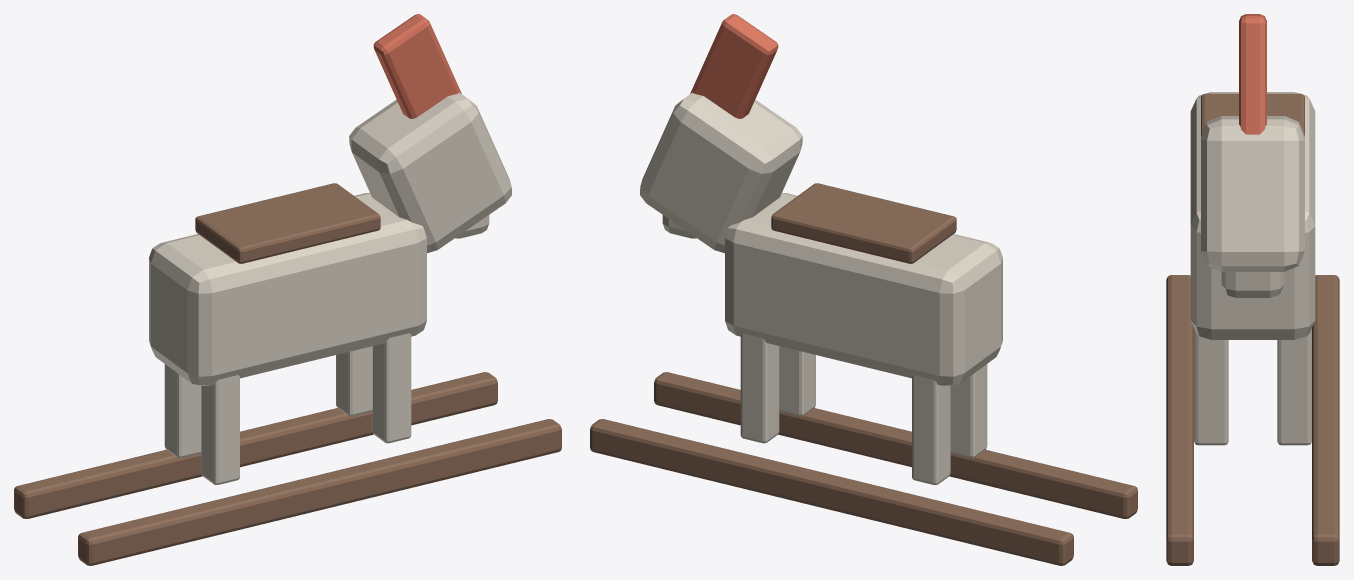
The model's file is hh_rocking_horse.glb.
3 views of the same model, side by side, from view 1: azimuth 30°, elevation 25°; view 2: azimuth 150°, elevation 25°; view 3: azimuth 270°, elevation 25° (orthographic). The views are drawn at different scales.
Visible parts, largest first — view 1: body, rocker, head, rocker.001, saddle, mane, leg.002, leg, leg.001, leg.003; view 2: body, rocker.001, head, rocker, saddle, mane, leg.003, leg.001, leg, leg.002; view 3: head, body, rocker, rocker.001, leg.002, leg.003, mane, saddle, neck.
Part boxes in pixels (x1=…): body: x1=149, y1=192, x2=426, y2=385; rocker: x1=78, y1=419, x2=561, y2=565; head: x1=349, y1=92, x2=511, y2=253; rocker.001: x1=14, y1=372, x2=497, y2=518; saddle: x1=195, y1=183, x2=380, y2=263; mane: x1=373, y1=14, x2=461, y2=118; leg.002: x1=372, y1=333, x2=411, y2=443; leg: x1=201, y1=375, x2=239, y2=484; leg.001: x1=164, y1=364, x2=201, y2=458; leg.003: x1=336, y1=346, x2=372, y2=416; body: x1=725, y1=192, x2=1002, y2=385; rocker.001: x1=590, y1=419, x2=1073, y2=565; head: x1=640, y1=92, x2=802, y2=253; rocker: x1=654, y1=372, x2=1137, y2=518; saddle: x1=771, y1=183, x2=956, y2=263; mane: x1=690, y1=14, x2=778, y2=118; leg.003: x1=740, y1=333, x2=779, y2=443; leg.001: x1=912, y1=375, x2=950, y2=484; leg: x1=950, y1=364, x2=987, y2=458; leg.002: x1=779, y1=346, x2=815, y2=416; head: x1=1201, y1=116, x2=1304, y2=271; body: x1=1190, y1=92, x2=1315, y2=339; rocker: x1=1166, y1=275, x2=1193, y2=565; rocker.001: x1=1312, y1=275, x2=1339, y2=565; leg.002: x1=1194, y1=328, x2=1228, y2=445; leg.003: x1=1277, y1=328, x2=1311, y2=445; mane: x1=1239, y1=14, x2=1266, y2=134; saddle: x1=1201, y1=93, x2=1304, y2=135; neck: x1=1221, y1=272, x2=1284, y2=297.
Bounding box in the file's own units: 0.9 × 0.7838 × 0.25.
